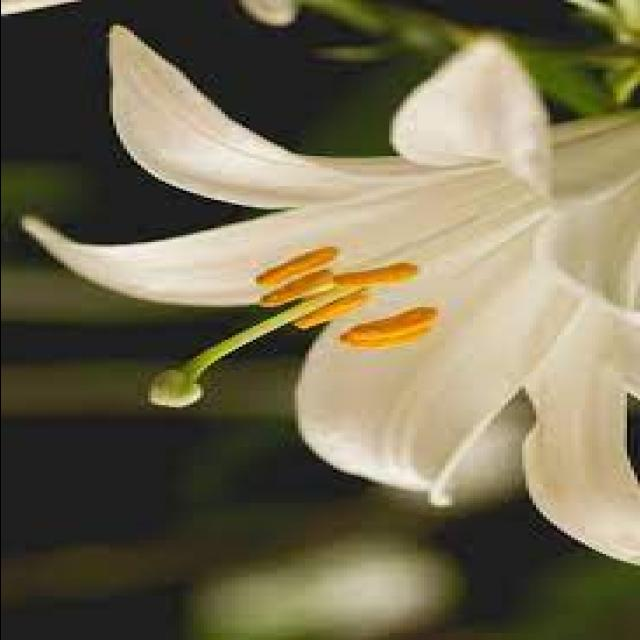lily: (24, 24, 640, 554)
